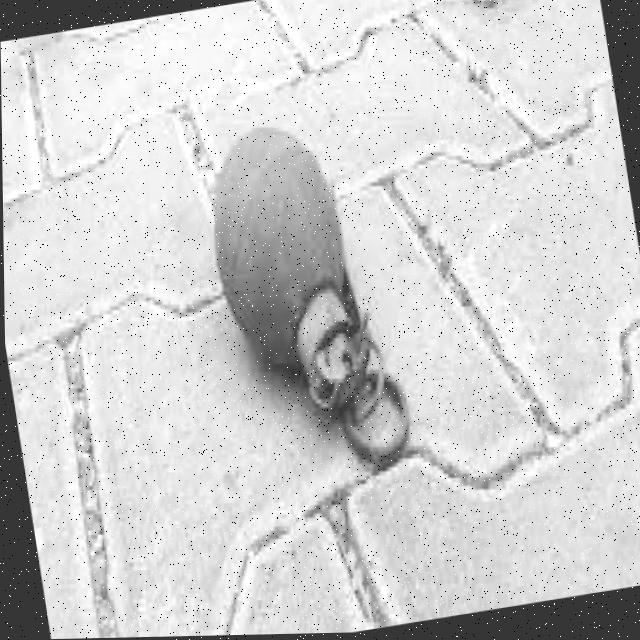grenade: (156, 103, 461, 519)
